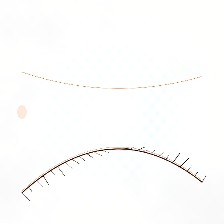pinguecula_lesion: (144, 104, 184, 136)
